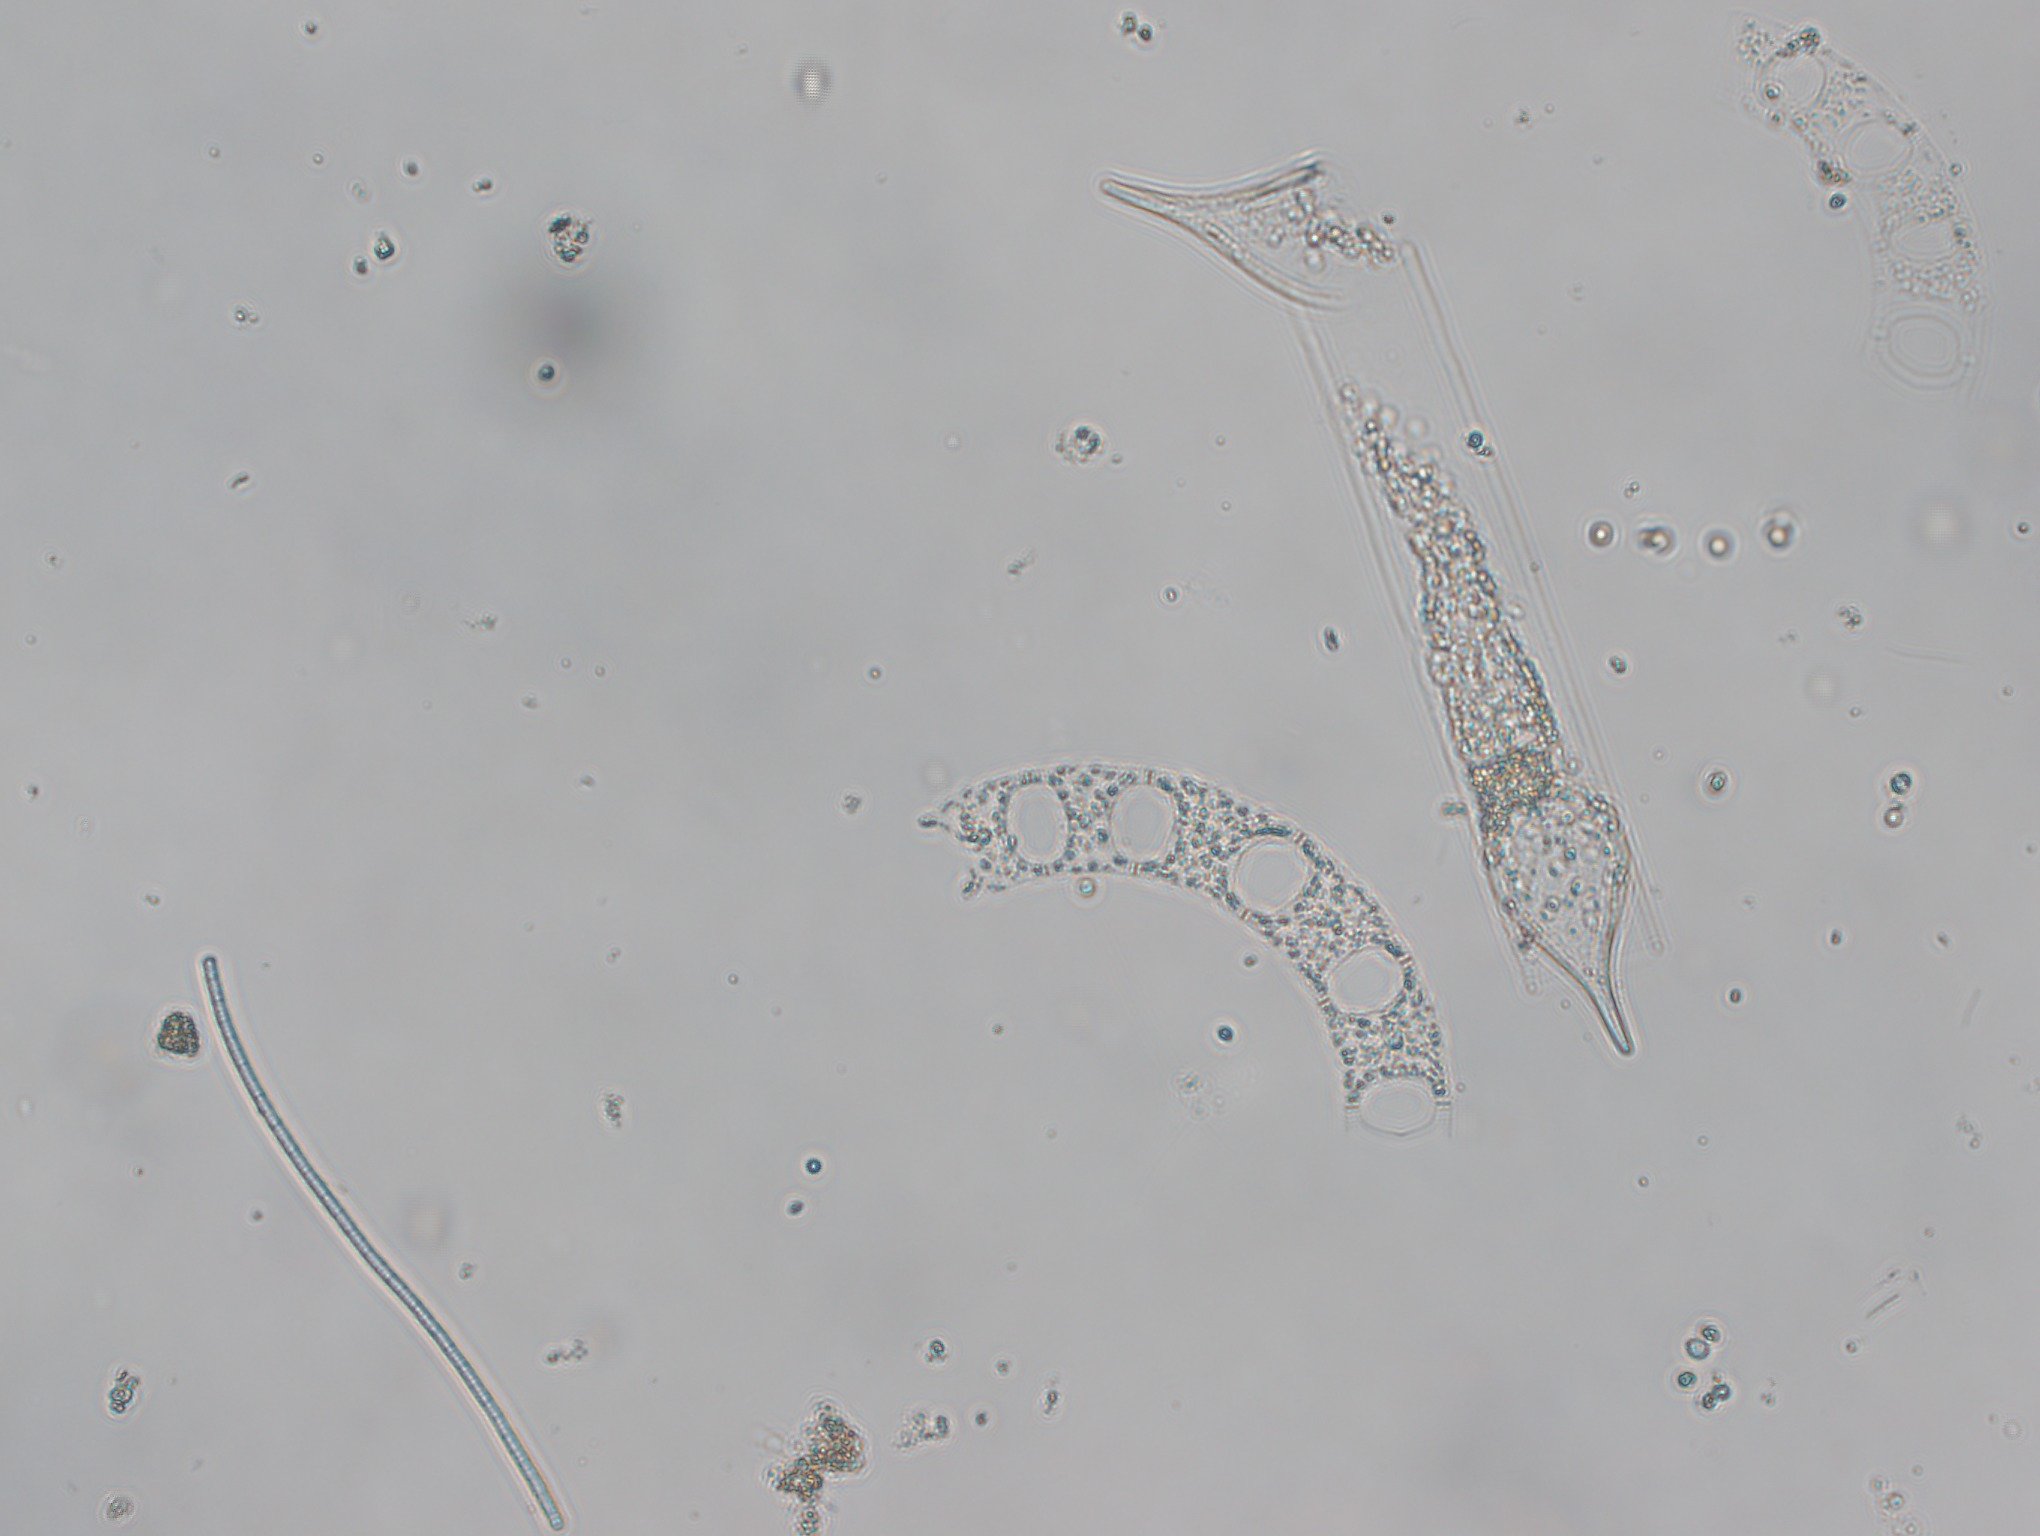eucampia: (908, 765, 1459, 1149), (1724, 11, 1992, 407)
rhizosolenia: (1095, 153, 1659, 1060)
